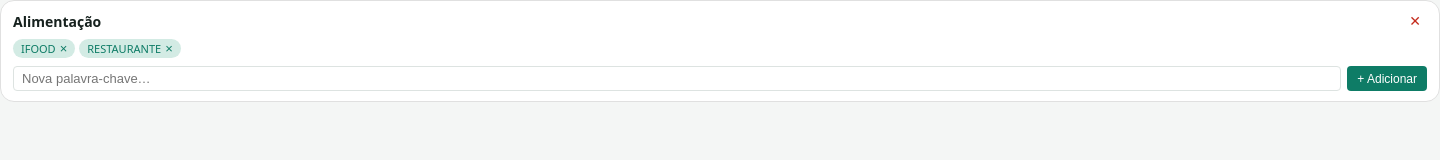
it: CategoryGroupEditor › shows conflict warning when keyword exists in other category
The image size is (1440, 160).
In the field with test id "keyword-input": (677, 78) [13,66,1341,91], type "UBER"
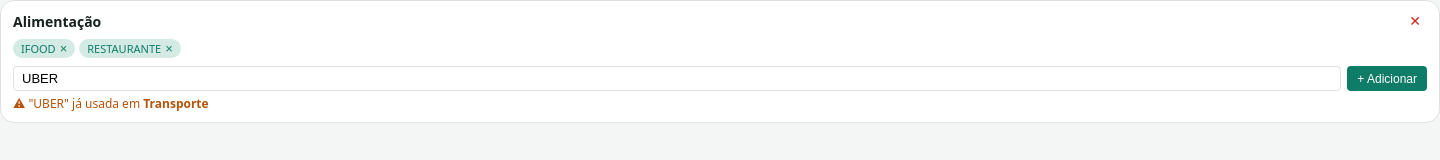
Expected: the text "Transporte" is shown, [143,95,209,112]
